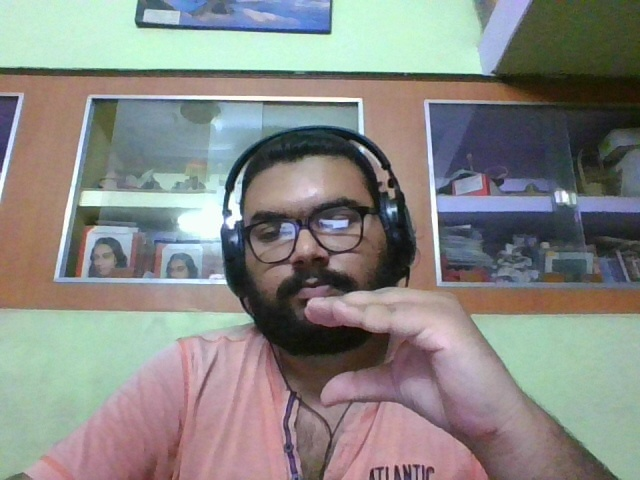no: (301, 288, 547, 422)
